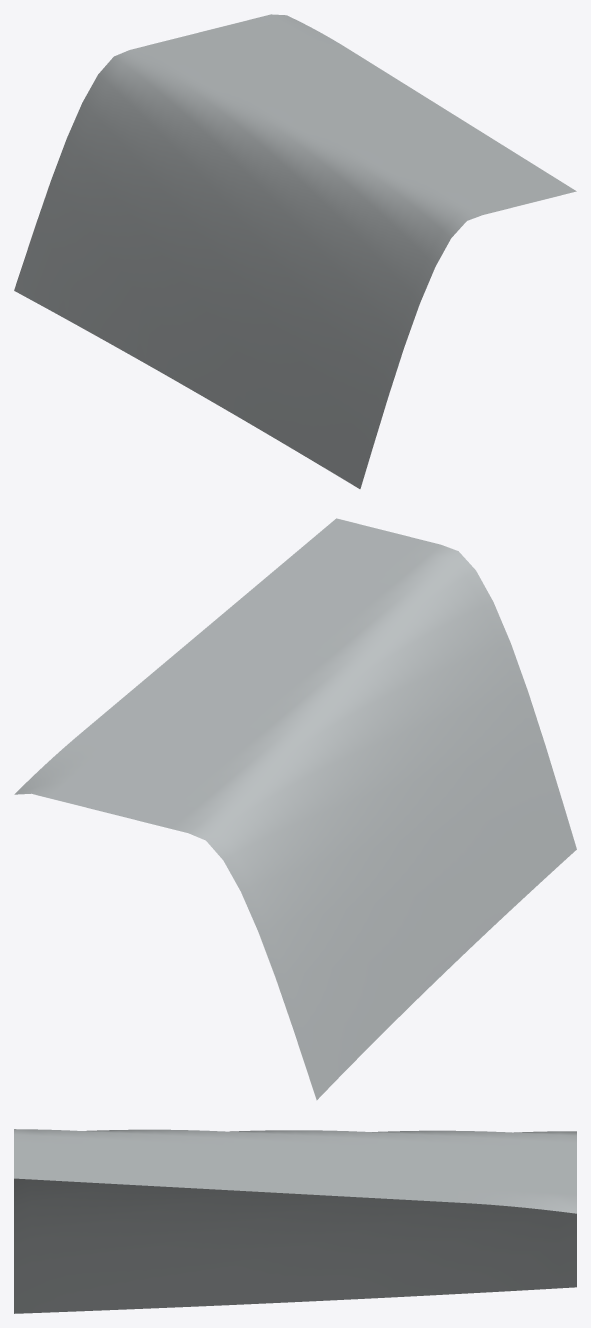
File: alpine-11-4.glb
3 views of the same model, one above another, from view 1: azimuth 30°, elevation 25°; view 2: azimuth 150°, elevation 25°; view 3: azimuth 270°, elevation 25° (orthographic). The views are drawn at different scales.
Visible parts, largest first — view 1: alpine-11-4; view 2: alpine-11-4; view 3: alpine-11-4.
Boxes of the visible parts, bbox=[...] form: alpine-11-4: bbox=[14, 14, 576, 488]; alpine-11-4: bbox=[14, 518, 576, 1100]; alpine-11-4: bbox=[14, 1129, 576, 1313].
Size of the model in its own units: 139 by 119 by 256.
1 material, 1 textured.
